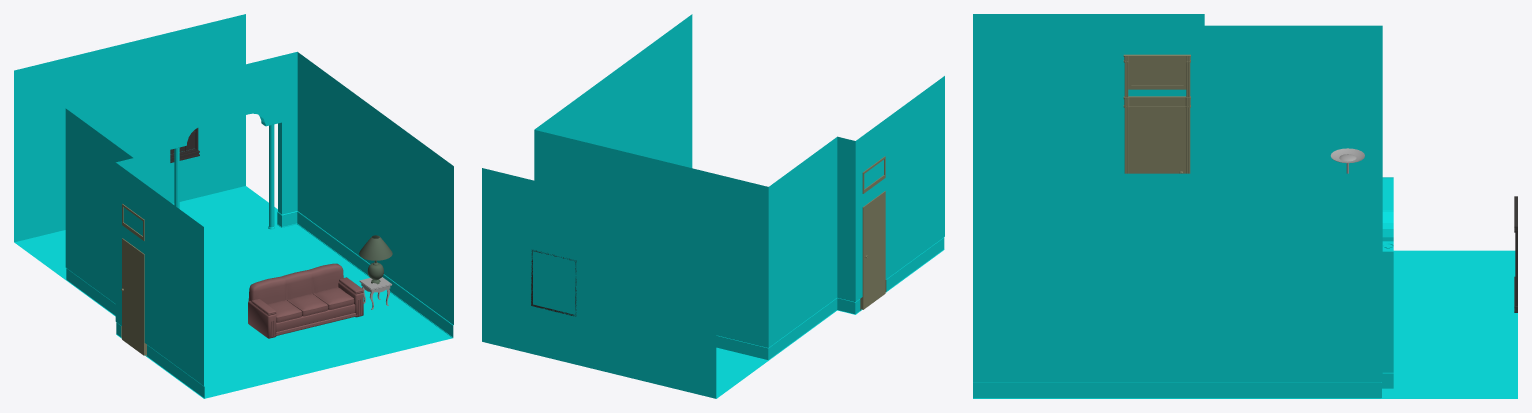
File: rabbits-set-david-lynch.fbx
The picture shows the model from 3 angles, left to right: view 1: azimuth 30°, elevation 25°; view 2: azimuth 150°, elevation 25°; view 3: azimuth 270°, elevation 25°; orthographic projection. The views are drawn at different scales.
Parts seen in each view (by area): view 1: meshhah44, meshhah61, meshhah2, meshhah53, meshhah77, meshhah60, meshhah35, meshhah20, RESPALDO, BRAZOS, BASE, meshhah92 (+6 smaller); view 2: meshhah2, meshhah53, meshhah77, meshhah61, meshhah60, meshhah59, meshhah35, meshhah20, meshhah44; view 3: meshhah61, meshhah77, meshhah60, meshhah44, meshhah35, meshhah20, meshhah62, meshhah53, meshhah64.
Boxes of the visible parts, box(x1,y1,x2,y2) form: meshhah44: box(14, 186, 452, 398); meshhah61: box(297, 52, 453, 324); meshhah2: box(14, 14, 245, 242); meshhah53: box(66, 51, 297, 214); meshhah77: box(115, 163, 203, 385); meshhah60: box(65, 108, 132, 303); meshhah35: box(66, 211, 453, 398); meshhah20: box(121, 238, 144, 355); RESPALDO: box(248, 263, 343, 304); BRAZOS: box(248, 277, 363, 338); BASE: box(274, 304, 357, 335); meshhah92: box(268, 124, 274, 229); meshhah2: box(482, 168, 716, 398); meshhah53: box(534, 130, 768, 347); meshhah77: box(855, 76, 944, 301); meshhah61: box(534, 14, 692, 167); meshhah60: box(768, 137, 837, 347); meshhah59: box(837, 136, 855, 301); meshhah35: box(716, 237, 944, 359); meshhah20: box(862, 191, 885, 309); meshhah44: box(716, 249, 944, 398); meshhah61: box(973, 173, 1382, 382); meshhah77: box(973, 14, 1204, 173); meshhah60: box(1204, 25, 1382, 173); meshhah44: box(973, 250, 1517, 398); meshhah35: box(973, 372, 1393, 398); meshhah20: box(1128, 107, 1186, 173); meshhah62: box(1123, 54, 1190, 173); meshhah53: box(1382, 177, 1393, 372); meshhah64: box(1128, 62, 1186, 87).
Size of the model in its own units: 561 by 365 by 800.
